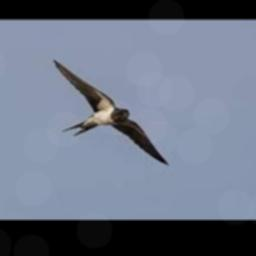Swallow: (51, 59, 169, 167)
